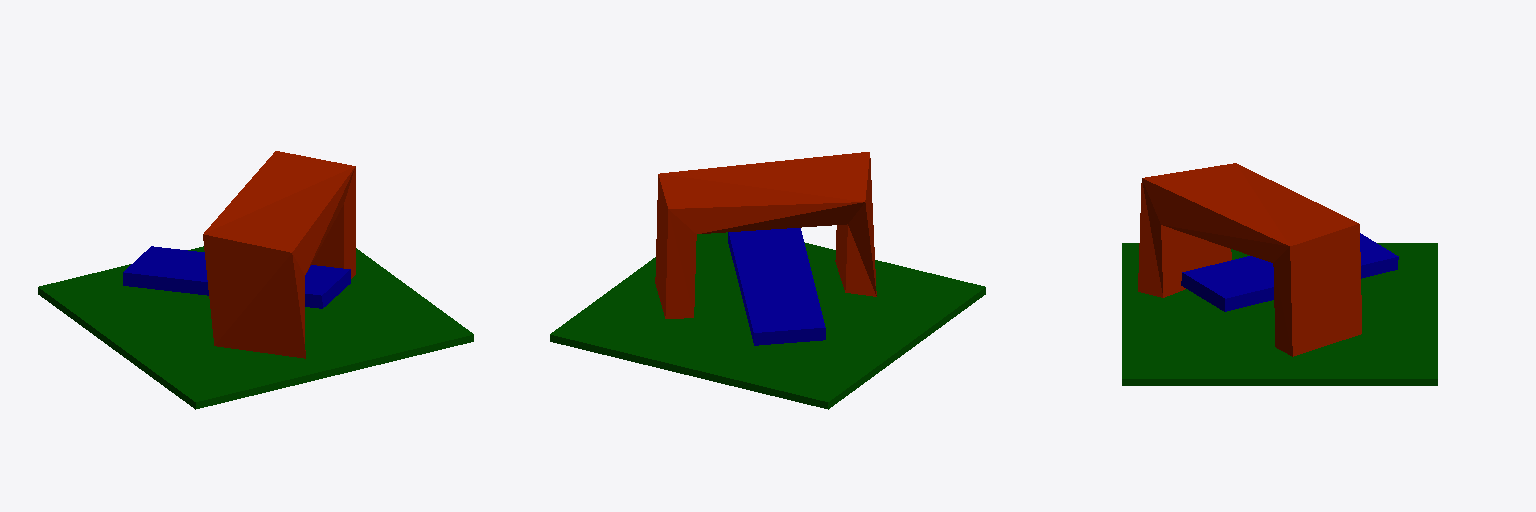
File: standard3.obj
3 renders of one model, left to right at view 1: azimuth 30°, elevation 25°; view 2: azimuth 150°, elevation 25°; view 3: azimuth 270°, elevation 25°, orthographic.
Bounding box in the file's own units: 52.41 × 22.23 × 51.44.